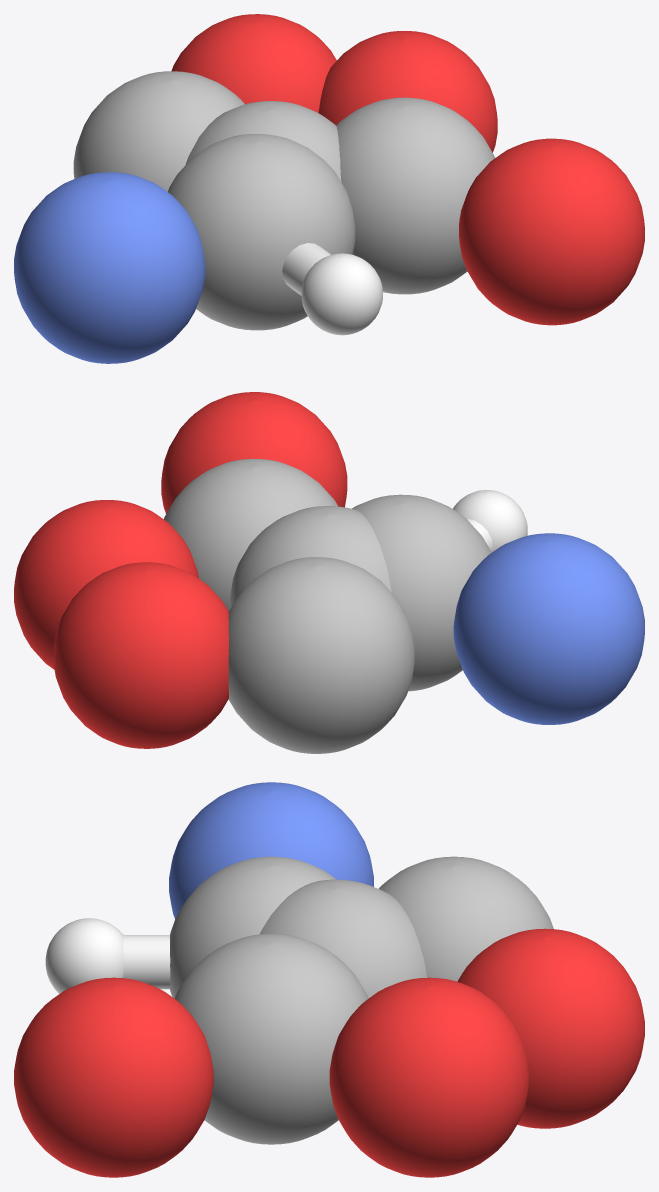
File: serine.glb
3 views of the same model, one above another, from view 1: azimuth 30°, elevation 25°; view 2: azimuth 150°, elevation 25°; view 3: azimuth 270°, elevation 25° (orthographic). The views are drawn at different scales.
Parts seen in each view (by area): view 1: Carbon_ball (×4), Oxygen_ball (×3), Nitrogen_ball, Hydrogen_ball; view 2: Carbon_ball (×5), Oxygen_ball (×5), Nitrogen_ball, Hydrogen_ball; view 3: Oxygen_ball (×5), Carbon_ball (×5), Nitrogen_ball, Hydrogen_ball.
Part boxes in pixels (box(x1,y1,x2,y2)): Carbon_ball (×4): box(73, 71, 494, 330); Oxygen_ball (×3): box(171, 14, 644, 325); Nitrogen_ball: box(14, 172, 205, 363); Hydrogen_ball: box(301, 253, 382, 335); Carbon_ball (×5): box(164, 458, 490, 753); Oxygen_ball (×5): box(14, 392, 347, 748); Nitrogen_ball: box(453, 533, 644, 724); Hydrogen_ball: box(453, 490, 527, 551); Oxygen_ball (×5): box(14, 928, 644, 1177); Carbon_ball (×5): box(169, 856, 553, 1144); Nitrogen_ball: box(169, 782, 373, 919); Hydrogen_ball: box(45, 918, 123, 993).
Size of the model in its own units: 4.8 by 1.54 by 4.6.
